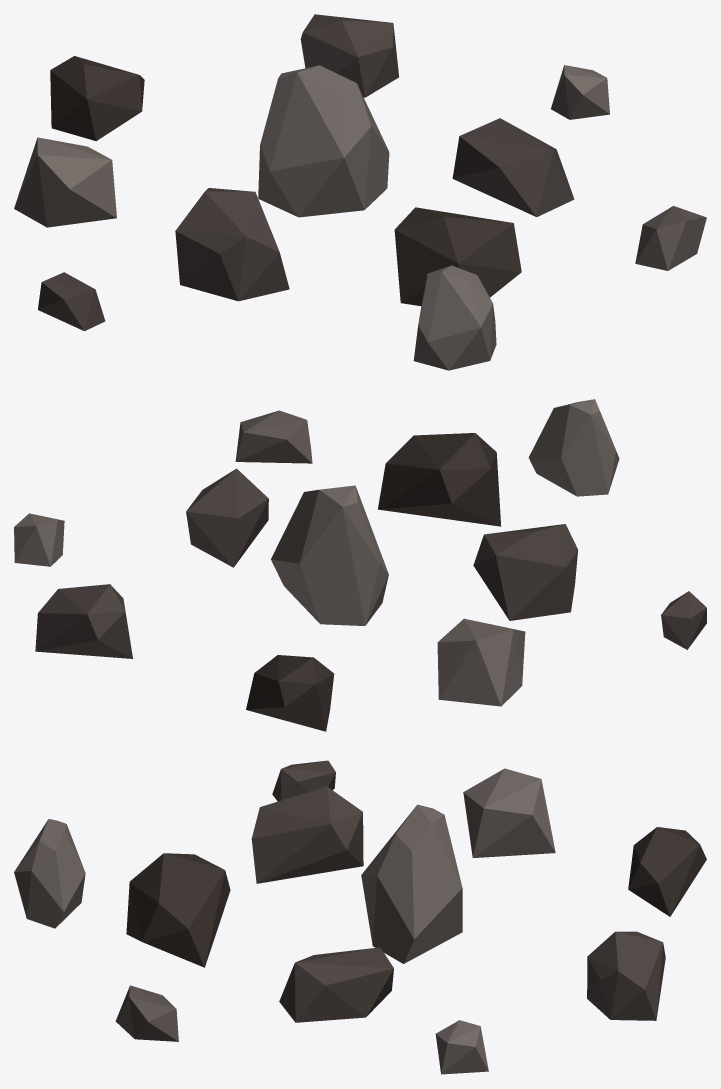
The model's file is Props_Stones_Type_4_2.fbx.
The picture shows the model from 3 angles, top to bottom: view 1: azimuth 30°, elevation 25°; view 2: azimuth 150°, elevation 25°; view 3: azimuth 270°, elevation 25°; orthographic projection. The views are drawn at different scales.
Visible parts, largest first — view 1: Probs_Stones_Type_4_2; view 2: Probs_Stones_Type_4_2; view 3: Probs_Stones_Type_4_2.
Part boxes in pixels (bbox=[...]): Probs_Stones_Type_4_2: bbox=[14, 14, 706, 370]; Probs_Stones_Type_4_2: bbox=[14, 399, 706, 731]; Probs_Stones_Type_4_2: bbox=[14, 760, 706, 1074].
Size of the model in its own units: 358 by 71.06 by 366.
